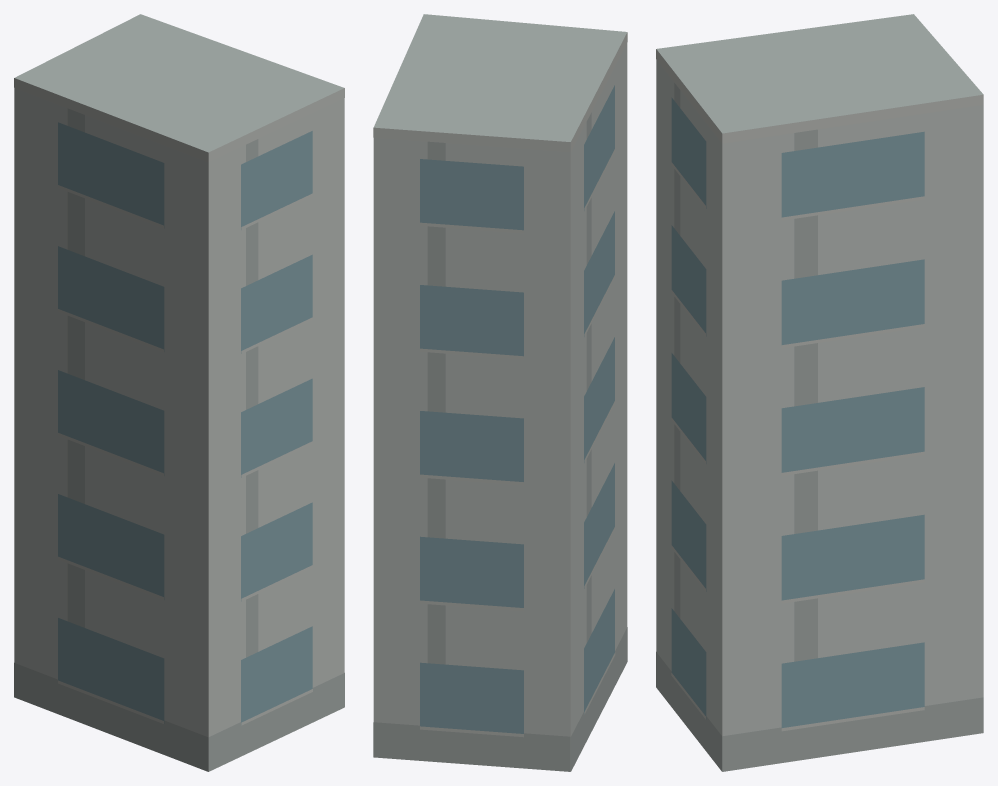
File: survey-upis-32644721.glb
3 renders of one model, left to right at view 1: azimuth 30°, elevation 25°; view 2: azimuth 150°, elevation 25°; view 3: azimuth 270°, elevation 25°, orthographic. The views are drawn at different scales.
Parts seen in each view (by area): view 1: survey-upis-32644721.tmp; view 2: survey-upis-32644721.tmp; view 3: survey-upis-32644721.tmp.
Boxes of the visible parts, x1=… form: survey-upis-32644721.tmp: x1=14, y1=14, x2=344, y2=771; survey-upis-32644721.tmp: x1=373, y1=14, x2=627, y2=771; survey-upis-32644721.tmp: x1=656, y1=14, x2=983, y2=771.
Bounding box in the file's own units: 6.13 × 15.25 × 7.1.
